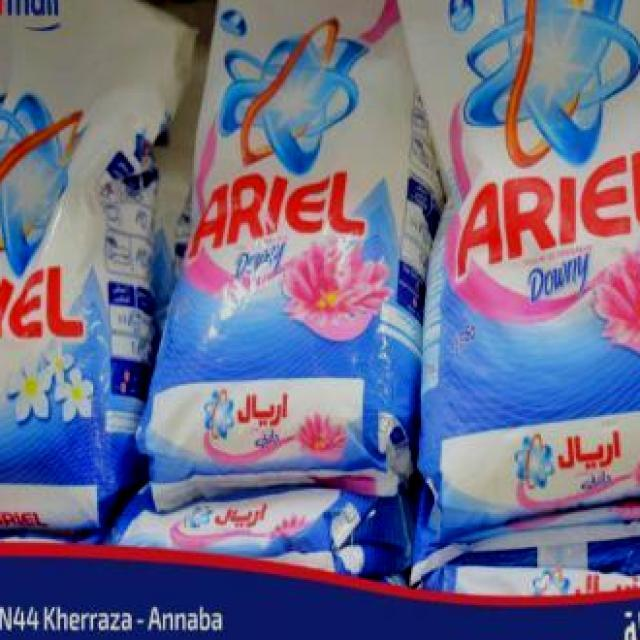Detergent: (145, 0, 421, 479), (393, 0, 640, 531), (0, 0, 155, 529)
